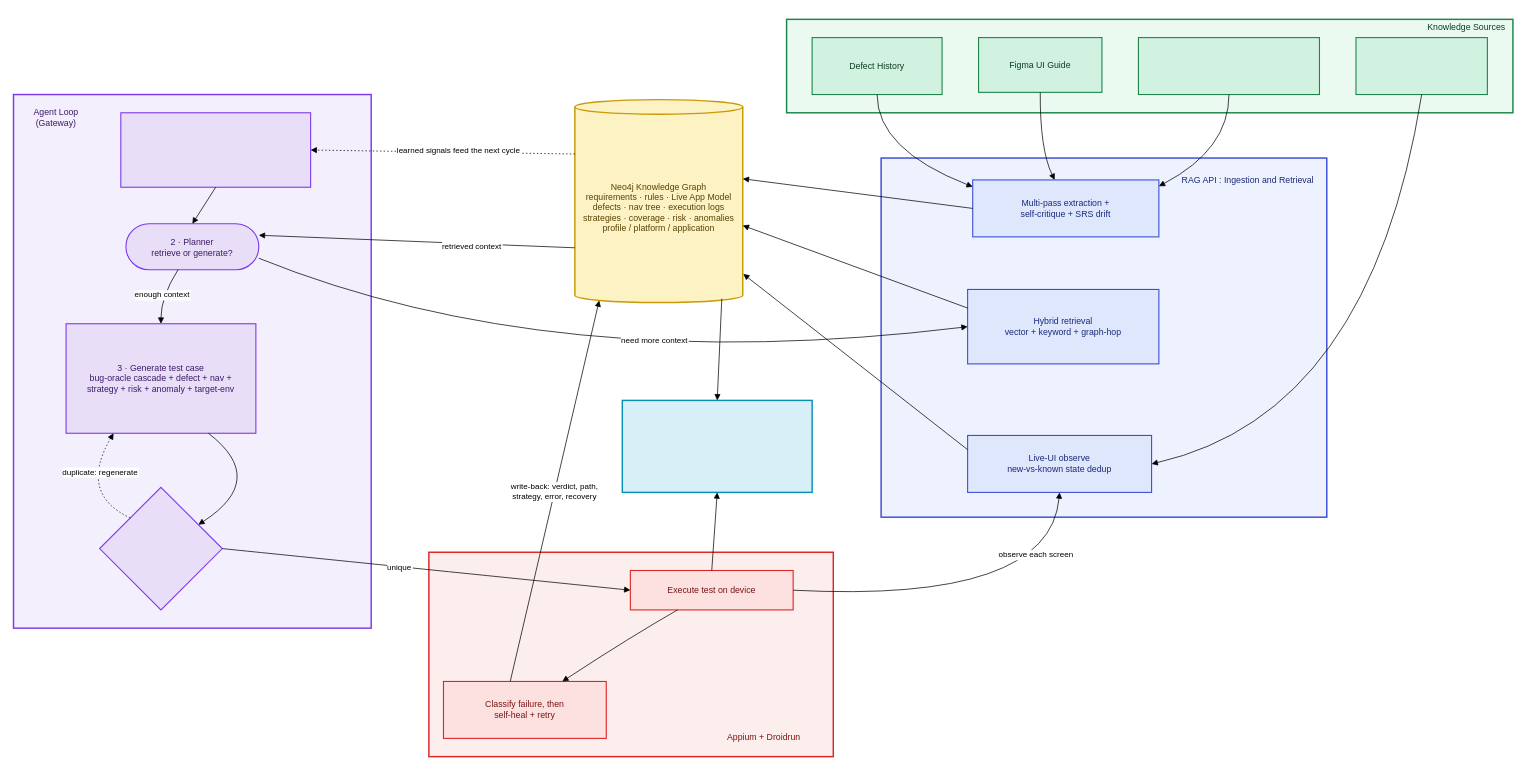
Image size: 1534x769. Some labels were removed from this diagram. The shapes that lost their labels are listed below. From the top down, each one's centre as x and y in pixels, then its label:
At point (1229, 66): "Software Requirement Specification (any format)".
At point (1421, 66): "Live Android App".
At point (215, 149): "1 · Bootstrap brief all source summaries, dimension-filtered".
At point (716, 446): "Operator Dashboard live status · verdict stream · app-model graph · trends".
At point (161, 548): "4 · Semantic dedup?".
